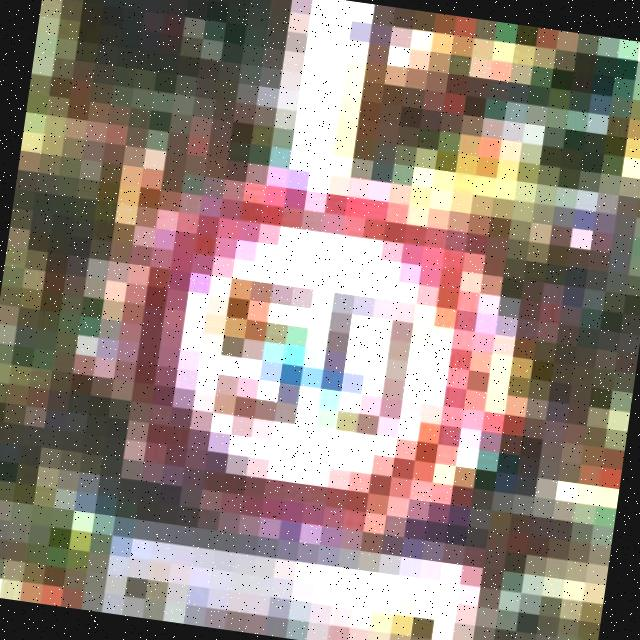Ograniczenie predkosci do 50: (116, 172, 508, 544)
